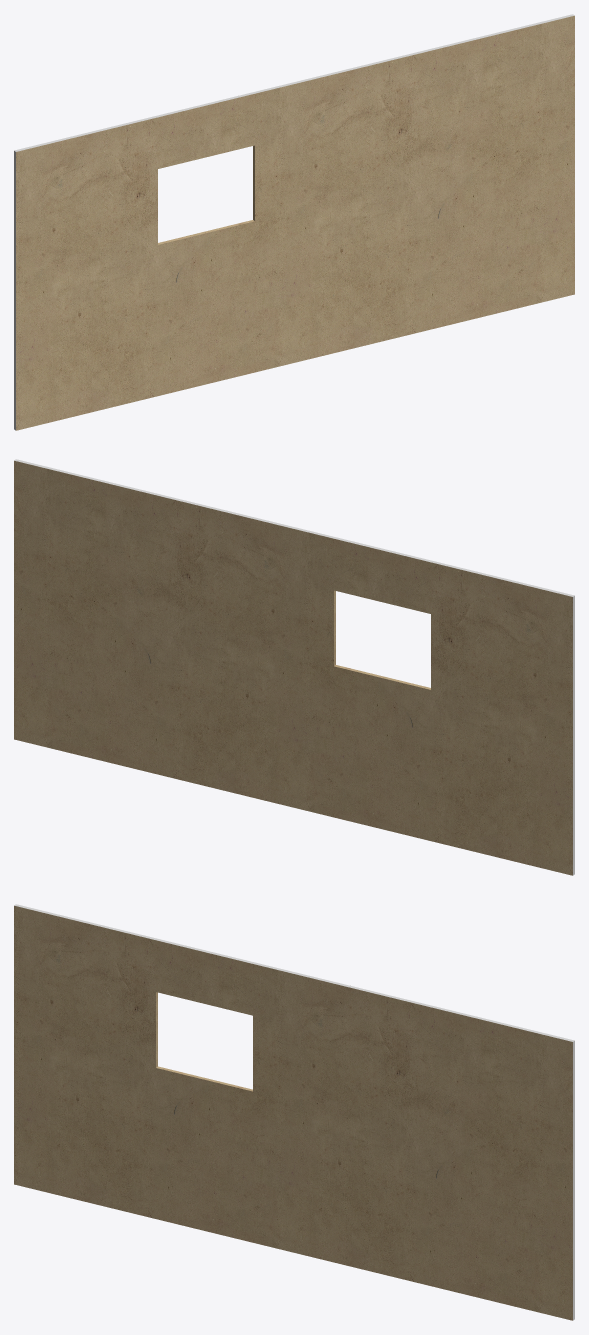
File: Cardboard_Box_BackHole_01.fbx
3 renders of one model, top to bottom at view 1: azimuth 30°, elevation 25°; view 2: azimuth 150°, elevation 25°; view 3: azimuth 330°, elevation 25°, orthographic.
Visible parts, largest first — view 1: Cardboard_Box_BackHole_01; view 2: Cardboard_Box_BackHole_01; view 3: Cardboard_Box_BackHole_01.
Boxes of the visible parts, left/top/right/bottom form: Cardboard_Box_BackHole_01: left=14, top=14, right=574, bottom=430; Cardboard_Box_BackHole_01: left=14, top=459, right=574, bottom=875; Cardboard_Box_BackHole_01: left=14, top=904, right=574, bottom=1320.
Bounding box in the file's own units: 839 × 400 × 5.31.
